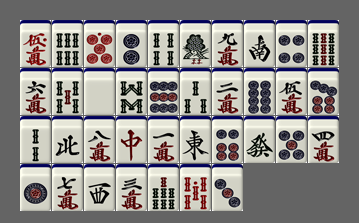0m: (20, 20, 51, 67)
0p: (84, 20, 115, 67)
0s: (180, 164, 211, 211)
1m: (148, 116, 179, 163)
1p: (20, 164, 51, 211)
1s: (180, 20, 211, 67)
1z: (180, 116, 211, 163)
2m: (212, 68, 243, 115)
2p: (116, 20, 147, 67)
2s: (20, 116, 51, 163)
2z: (244, 20, 275, 67)
3m: (116, 164, 147, 211)
3p: (212, 164, 243, 211)
3s: (180, 68, 211, 115)
3z: (84, 164, 115, 211)
4m: (308, 116, 339, 163)
4p: (276, 20, 307, 67)
4s: (148, 20, 179, 67)
4z: (52, 116, 83, 163)
5m: (276, 68, 307, 115)
5p: (276, 116, 307, 163)
5s: (52, 68, 83, 115)
5z: (84, 68, 115, 115)
6m: (20, 68, 51, 115)
6p: (212, 116, 243, 163)
6s: (52, 20, 83, 67)
6z: (244, 116, 275, 163)
7m: (52, 164, 83, 211)
7p: (308, 68, 339, 115)
7s: (148, 164, 179, 211)
7z: (116, 116, 147, 163)
8m: (84, 116, 115, 163)
8p: (244, 68, 275, 115)
8s: (116, 68, 147, 115)
9m: (212, 20, 243, 67)
9p: (148, 68, 179, 115)
9s: (308, 20, 339, 67)
